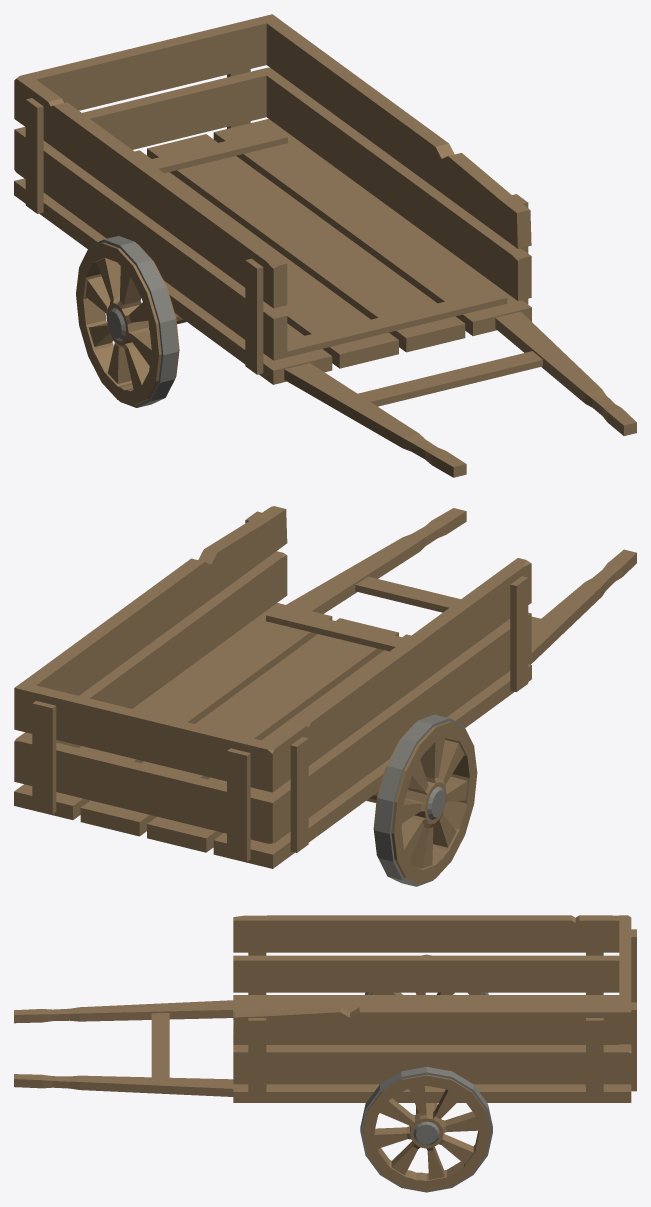
Rendered from CartJoined.fbx.
3 views of the same model, one above another, from view 1: azimuth 30°, elevation 25°; view 2: azimuth 150°, elevation 25°; view 3: azimuth 270°, elevation 25° (orthographic). The views are drawn at different scales.
Visible parts, largest first — view 1: Cube; view 2: Cube; view 3: Cube.
Part boxes in pixels (bbox=[...]): Cube: bbox=[14, 14, 636, 477]; Cube: bbox=[14, 506, 636, 886]; Cube: bbox=[14, 915, 636, 1192].
Bounding box in the file's own units: 253 × 164 × 546.
1 material, 1 textured.
